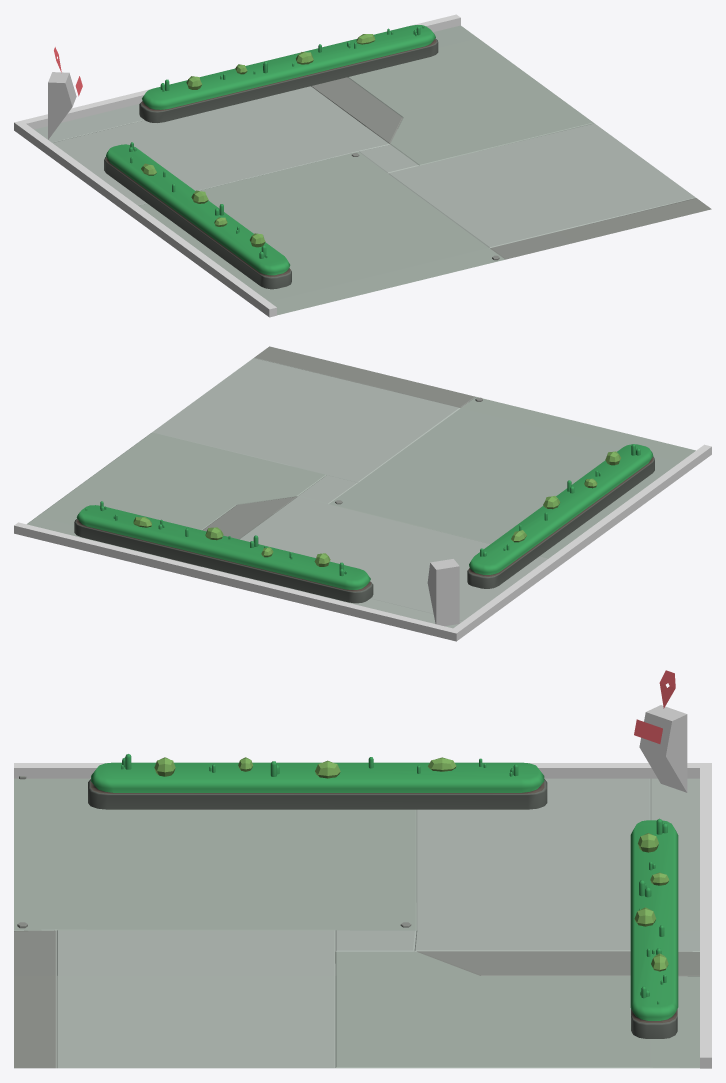
3 views of the same model, one above another, from view 1: azimuth 30°, elevation 25°; view 2: azimuth 150°, elevation 25°; view 3: azimuth 270°, elevation 25° (orthographic). The views are drawn at different scales.
Parts seen in each view (by area): view 1: Scifi_Panel_04_Plaza014_group4.013_Scifi_Panel_04_Plaza014_g, TreePatch_Plaza014_group3.030_TreePatch_Plaza014_group3.018, TreePatch_Plaza014_group3.031_TreePatch_Plaza014_group3.019, Cube.1075_Cube.1199, panel.007_panel.011; view 2: Scifi_Panel_04_Plaza014_group4.013_Scifi_Panel_04_Plaza014_g, TreePatch_Plaza014_group3.030_TreePatch_Plaza014_group3.018, Cube.1075_Cube.1199, TreePatch_Plaza014_group3.031_TreePatch_Plaza014_group3.019, panel.007_panel.011; view 3: Scifi_Panel_04_Plaza014_group4.013_Scifi_Panel_04_Plaza014_g, TreePatch_Plaza014_group3.031_TreePatch_Plaza014_group3.019, TreePatch_Plaza014_group3.030_TreePatch_Plaza014_group3.018, Cube.1075_Cube.1199, panel.007_panel.011.
Part boxes in pixels (box(x1,y1,x2,y2)): Scifi_Panel_04_Plaza014_group4.013_Scifi_Panel_04_Plaza014_g: box(34, 25, 711, 315); TreePatch_Plaza014_group3.030_TreePatch_Plaza014_group3.018: box(139, 25, 438, 122); TreePatch_Plaza014_group3.031_TreePatch_Plaza014_group3.019: box(104, 144, 291, 289); Cube.1075_Cube.1199: box(14, 14, 460, 317); panel.007_panel.011: box(48, 47, 82, 139); Scifi_Panel_04_Plaza014_group4.013_Scifi_Panel_04_Plaza014_g: box(27, 346, 695, 628); TreePatch_Plaza014_group3.030_TreePatch_Plaza014_group3.018: box(74, 505, 373, 603); Cube.1075_Cube.1199: box(14, 444, 711, 641); TreePatch_Plaza014_group3.031_TreePatch_Plaza014_group3.019: box(467, 444, 654, 588); panel.007_panel.011: box(427, 559, 459, 626); Scifi_Panel_04_Plaza014_group4.013_Scifi_Panel_04_Plaza014_g: box(14, 776, 699, 1068); TreePatch_Plaza014_group3.031_TreePatch_Plaza014_group3.019: box(88, 762, 547, 809); TreePatch_Plaza014_group3.030_TreePatch_Plaza014_group3.018: box(630, 820, 678, 1038); Cube.1075_Cube.1199: box(14, 763, 711, 1068); panel.007_panel.011: box(634, 670, 687, 792).
Size of the model in its own units: 10 by 1.89 by 10.
